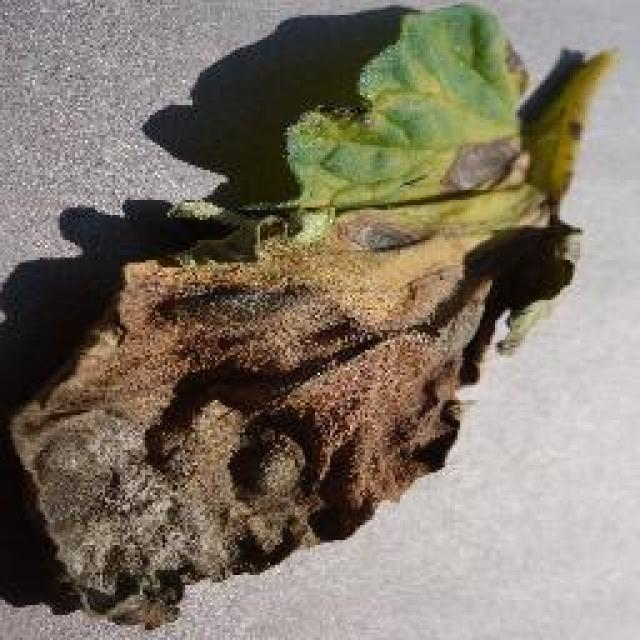Tomato___Early_blight: (8, 2, 619, 635)
